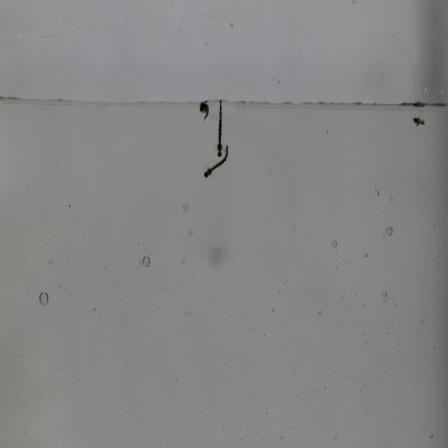Jentik-Nyamuk: (196, 99, 233, 182), (408, 113, 427, 131)
